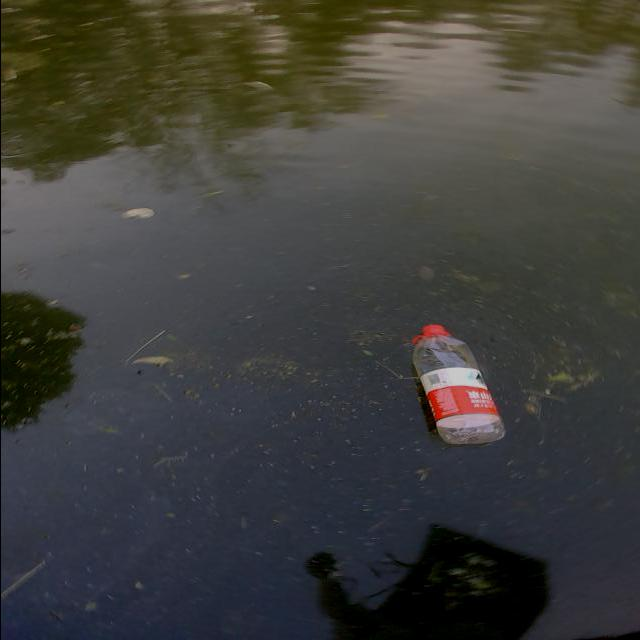bottle: (382, 303, 536, 467)
